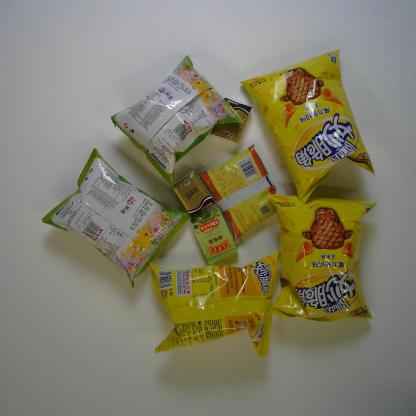Candy: (190, 207, 239, 265)
Puffed Food: (41, 148, 191, 290), (240, 49, 376, 204), (110, 53, 246, 186), (149, 250, 283, 362), (264, 192, 374, 324)
Seasoner: (198, 143, 284, 242)
Tissue: (170, 169, 216, 221), (211, 97, 252, 145)
